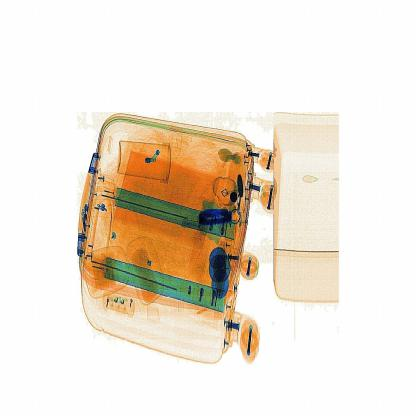scissors: (195, 199, 238, 231)
